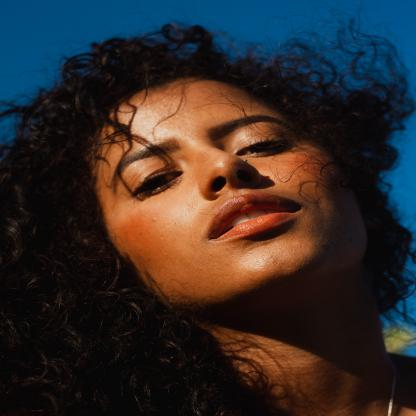Eye: (120, 152, 186, 208), (224, 122, 298, 159)
Mouth: (191, 189, 307, 244)
Nose: (186, 154, 271, 200)
